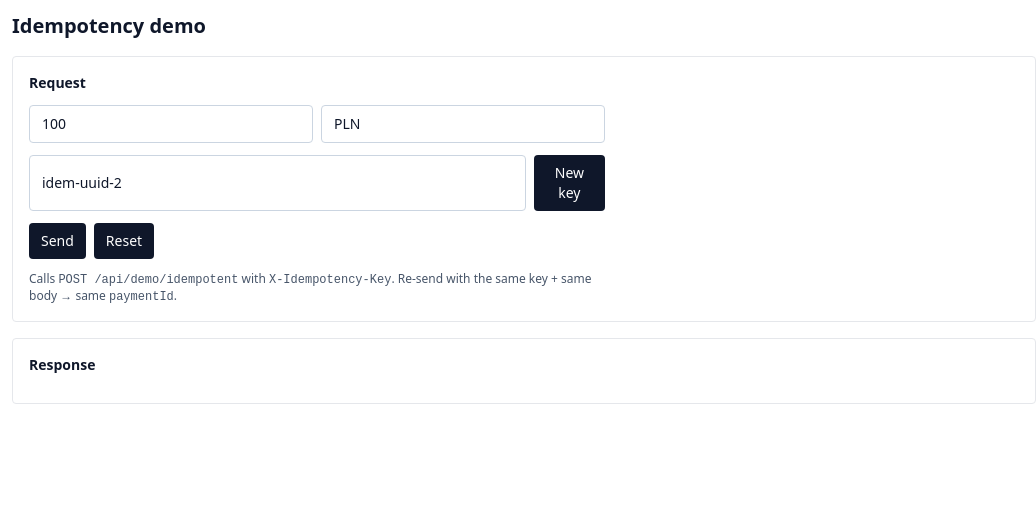
Test: Idempotent demo page › Reset clears displayed response
The width and height of the screenshot is (1036, 525).
What coordinates should you click on to do the following:
click the button "Send"
I would click on:
 (57, 241)
Its box is [29, 223, 86, 259].
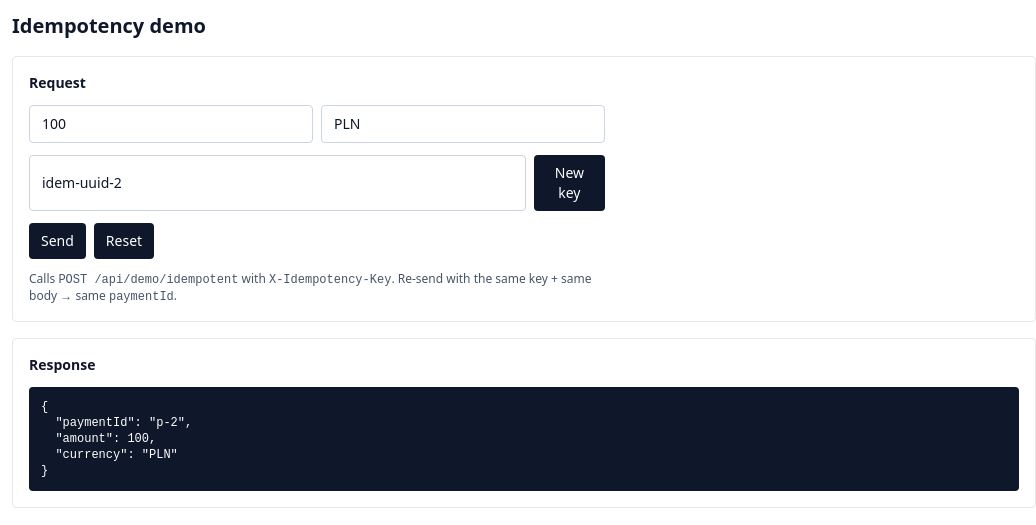
Expected: the text "{ \"paymentId\": \"p-2\", \"amount\": 100, \"currency\": \"PLN\" }" is shown, [29, 387, 1019, 491]
What coordinates should you click on to do the following:
click the button "Reset"
I would click on:
 (124, 241)
Its box is [94, 223, 154, 259].
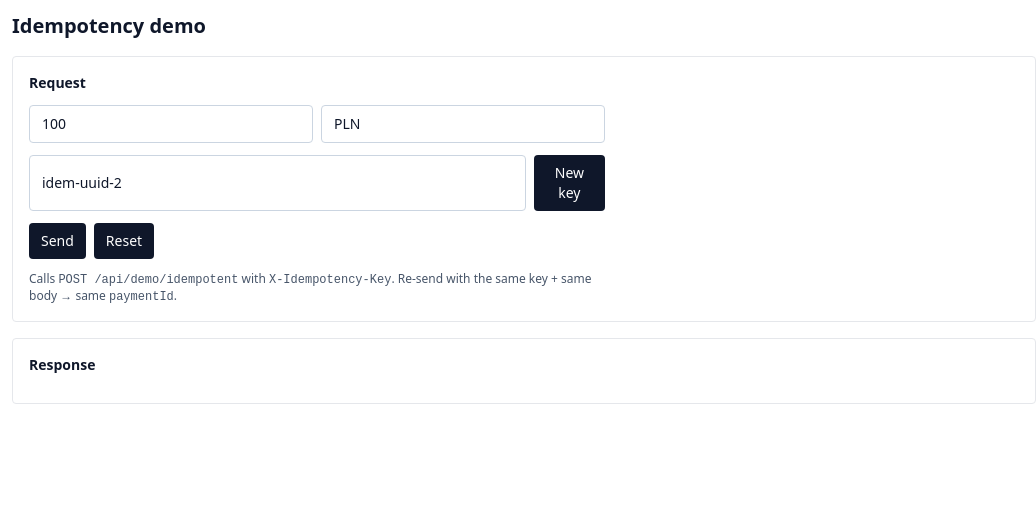
Expected: the text "\"paymentId\":" is gone
